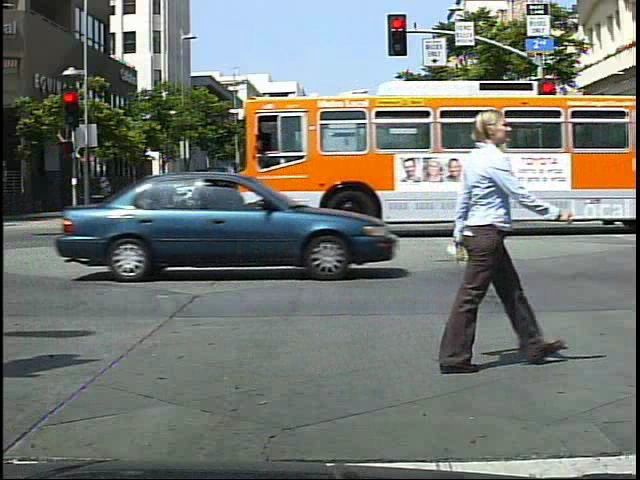person: (413, 92, 559, 393), (320, 164, 351, 228), (230, 166, 259, 232), (302, 166, 331, 230), (549, 160, 573, 211)
